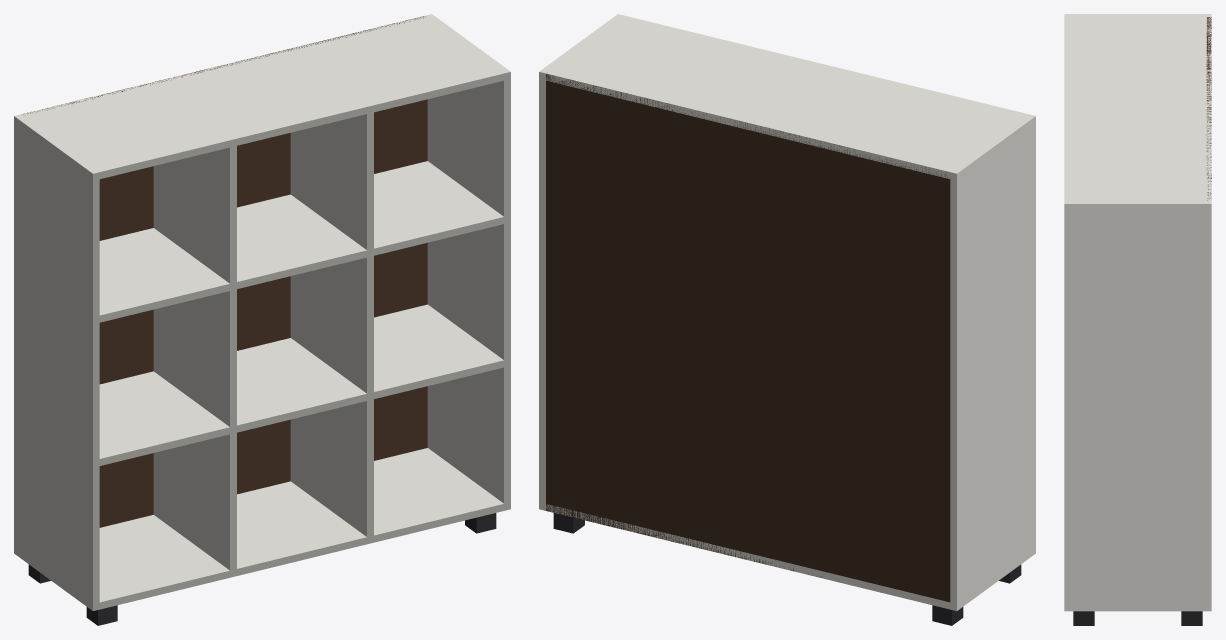
The model's file is FN_Shelf_Cube.glb.
3 views of the same model, side by side, from view 1: azimuth 30°, elevation 25°; view 2: azimuth 150°, elevation 25°; view 3: azimuth 270°, elevation 25° (orthographic). The views are drawn at different scales.
Parts seen in each view (by area): view 1: FN_Shelf_Cube; view 2: FN_Shelf_Cube; view 3: FN_Shelf_Cube.
Boxes of the visible parts, x1,y1,x2,y2 form: FN_Shelf_Cube: [14, 14, 510, 625]; FN_Shelf_Cube: [539, 14, 1035, 625]; FN_Shelf_Cube: [1064, 14, 1211, 625].
Bounding box in the file's own units: 1.1 × 1.15 × 0.36.
1 material, 1 textured.
